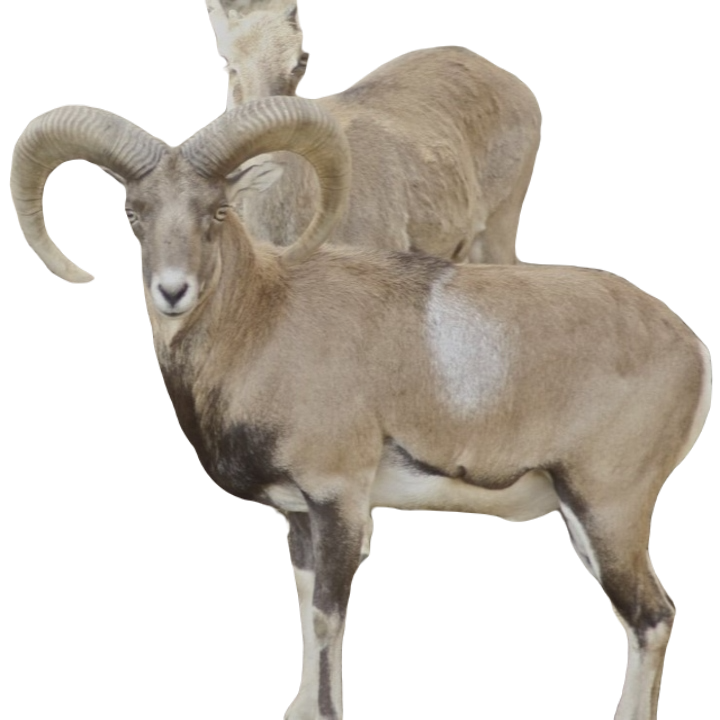Sheep: (5, 94, 715, 719)
